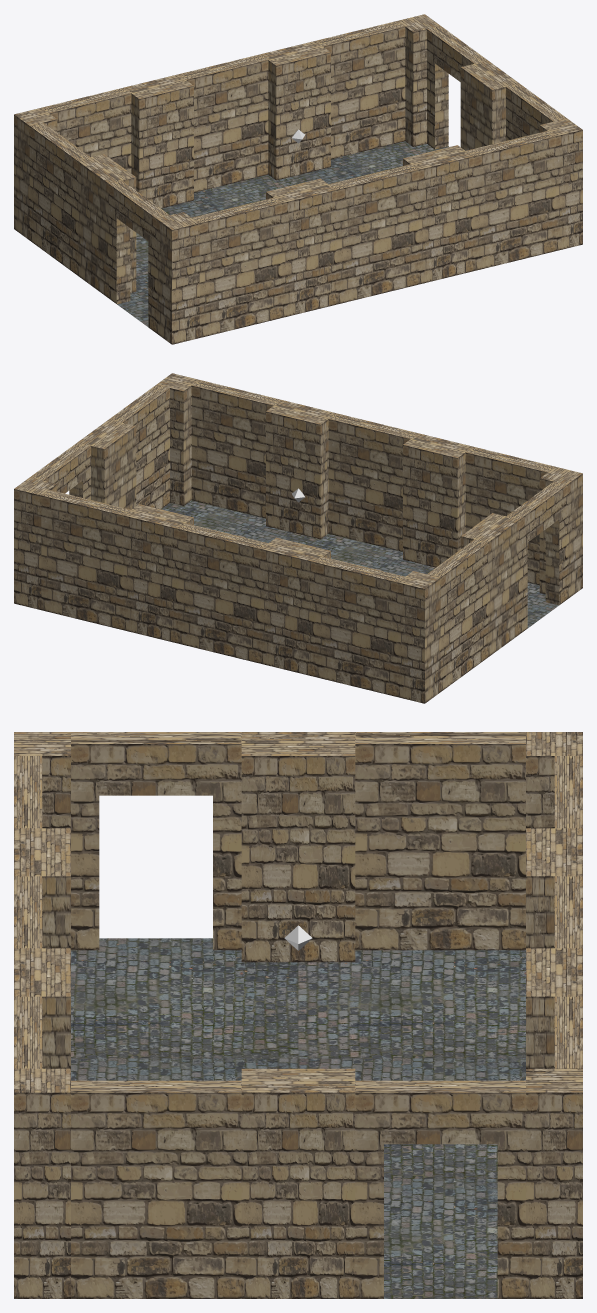
File: 1_3boxSwitcher.fbx
3 renders of one model, top to bottom at view 1: azimuth 30°, elevation 25°; view 2: azimuth 150°, elevation 25°; view 3: azimuth 270°, elevation 25°, orthographic. The views are drawn at different scales.
Visible parts, largest first — view 1: Cube_2, Plane; view 2: Cube_2, Plane; view 3: Cube_2, Plane.
Boxes of the visible parts, x1=… form: Cube_2: x1=14, y1=14, x2=582, y2=344; Plane: x1=117, y1=141, x2=448, y2=326; Cube_2: x1=14, y1=373, x2=582, y2=703; Plane: x1=161, y1=500, x2=558, y2=627; Cube_2: x1=14, y1=732, x2=582, y2=1298; Plane: x1=71, y1=938, x2=525, y2=1298.
Bounding box in the file's own units: 30 × 8 × 20.
Materials: 3 (3 with a texture image).
